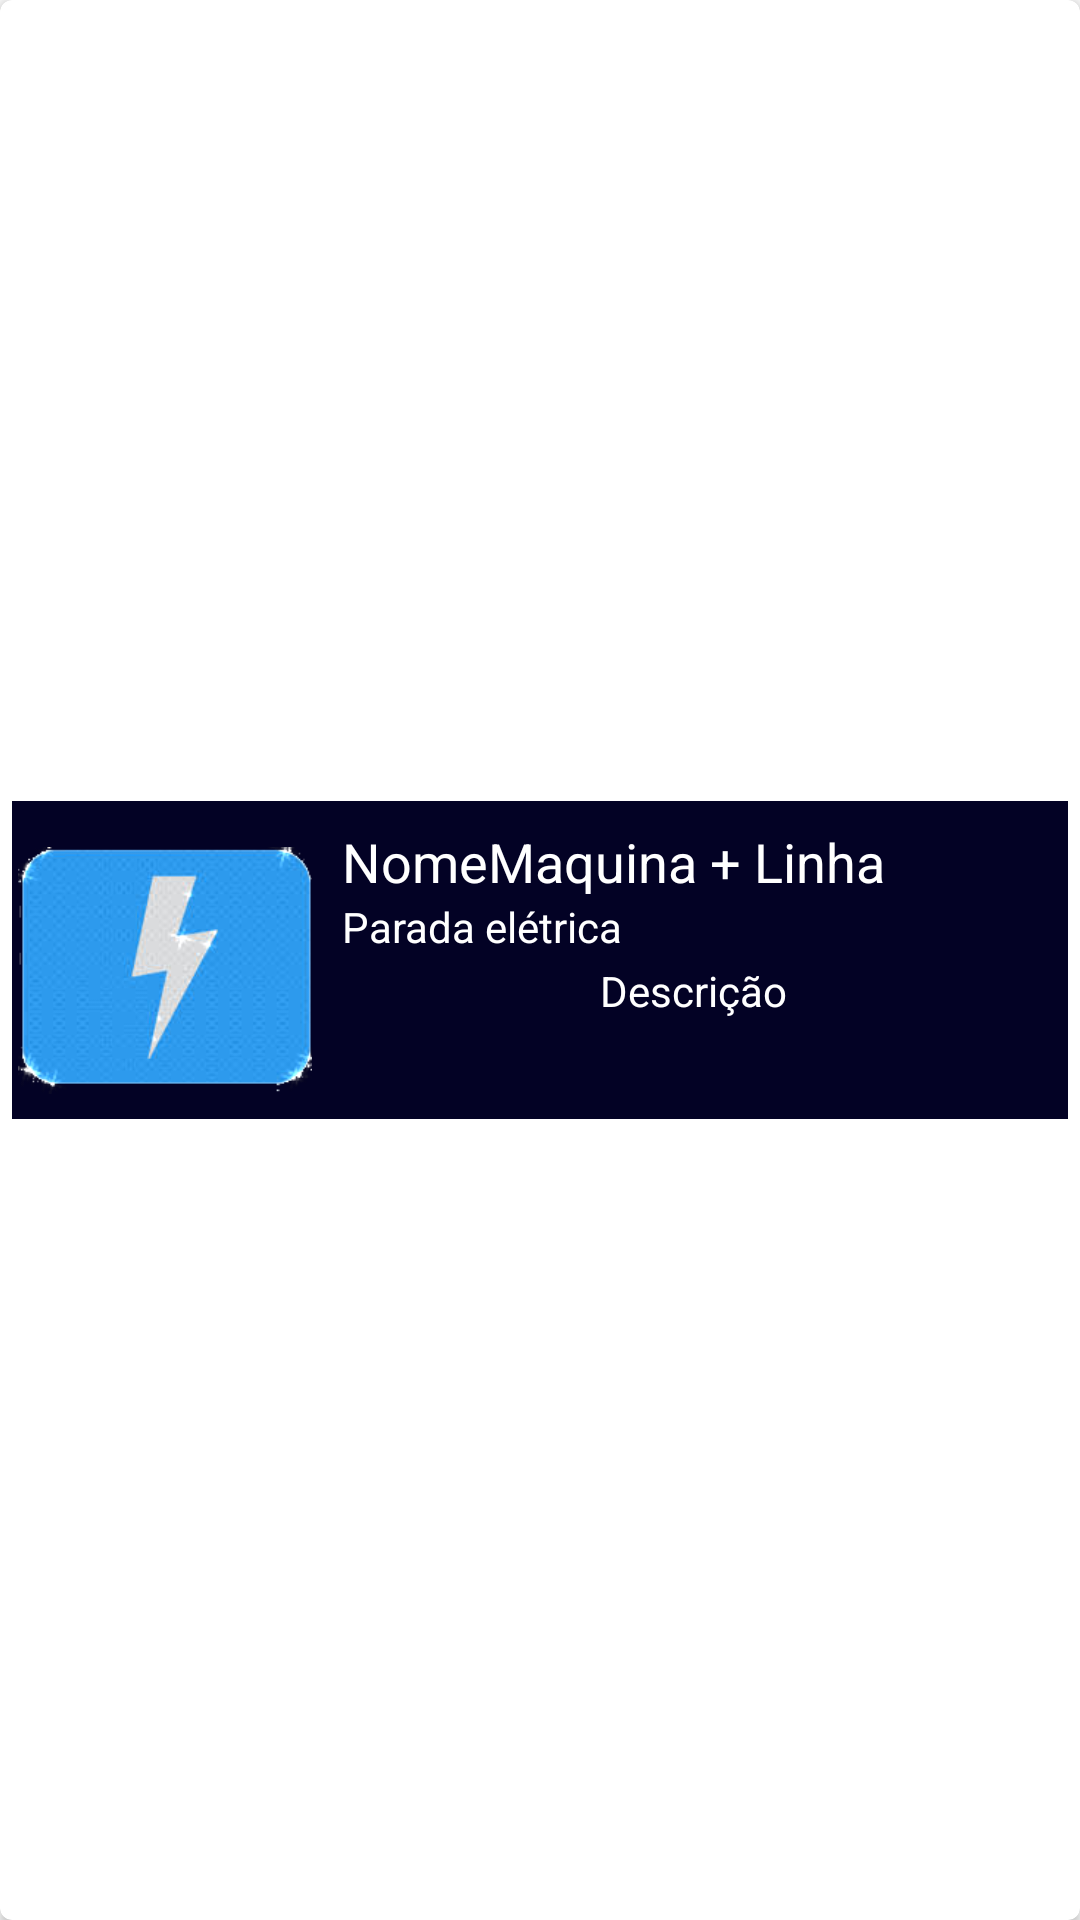

Icons on this 1080×1920 Android screen, each with the point to tap as point (x, y):
eletrico: point (165, 969)
